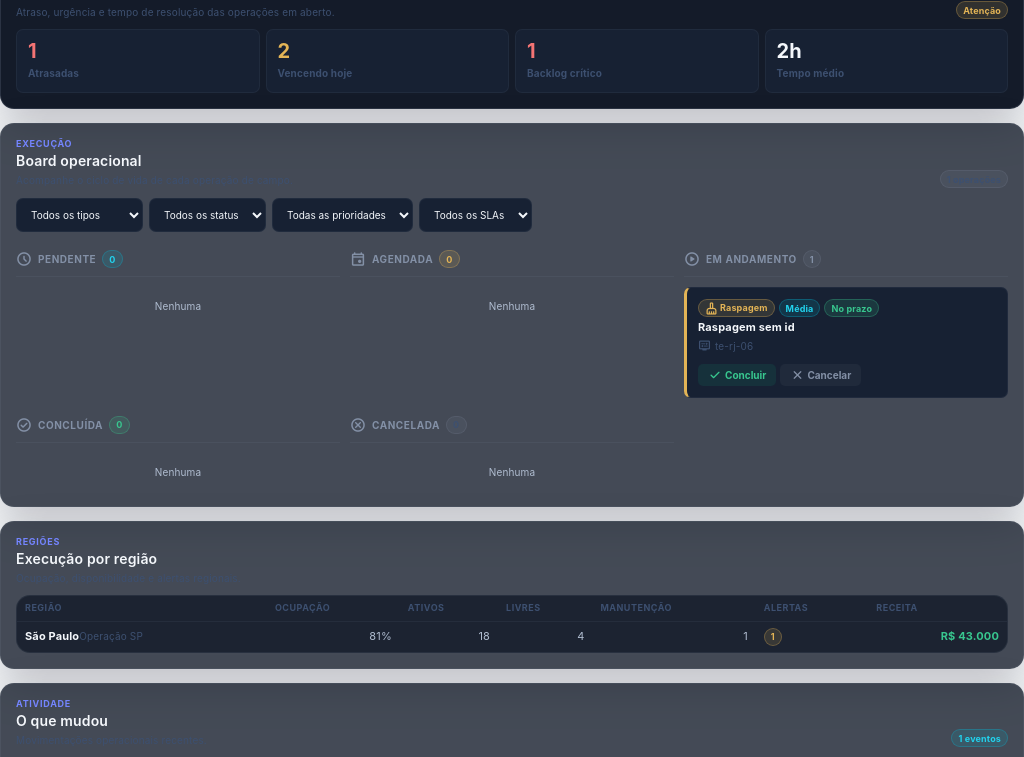
Test: OperationsPage smoke › Conclusão de operação não-manutenção › exibe erro amigavel e nao chama completeTask quando o identificador da operacao esta ausente
The image size is (1024, 757).
(page scrolled)
Click the button "Concluir" at (737, 374), box [698,364,776,386]
(page scrolled)
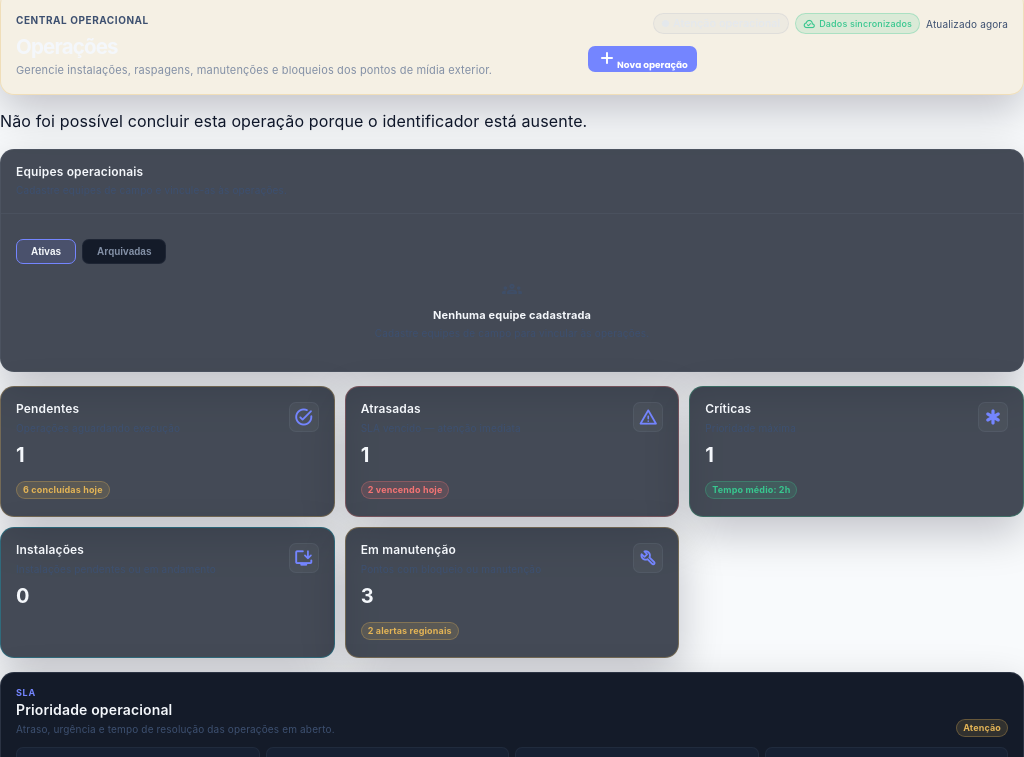
Check: the text "Não foi possível concluir esta operação porque o identificador está ausente." is shown, box [0,111,587,131]
